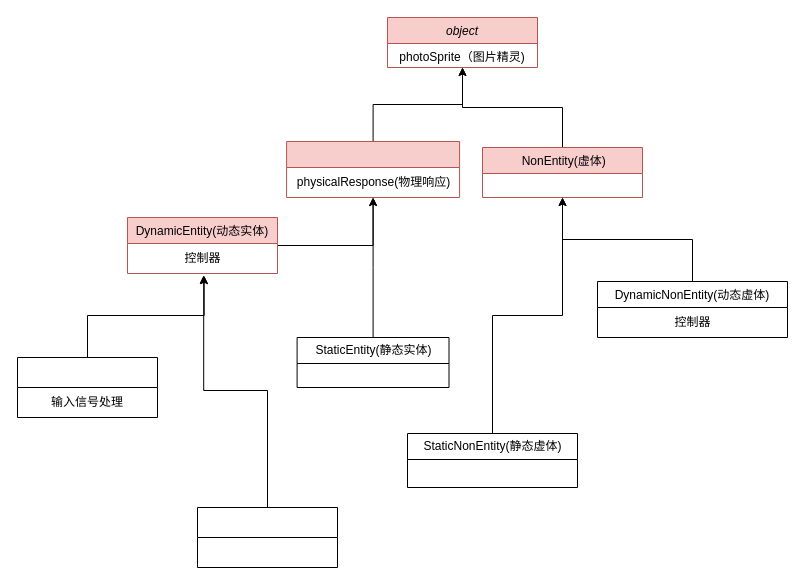
Image size: 805x585. Some labels were removed from this diagram. Here are the shapes that lost their labels. From the top down, the box of each, then its label:
(286, 140, 460, 198): Entity(实体)
(16, 356, 158, 418): PlayerCharacter
(196, 506, 338, 568): DynamicNPC
